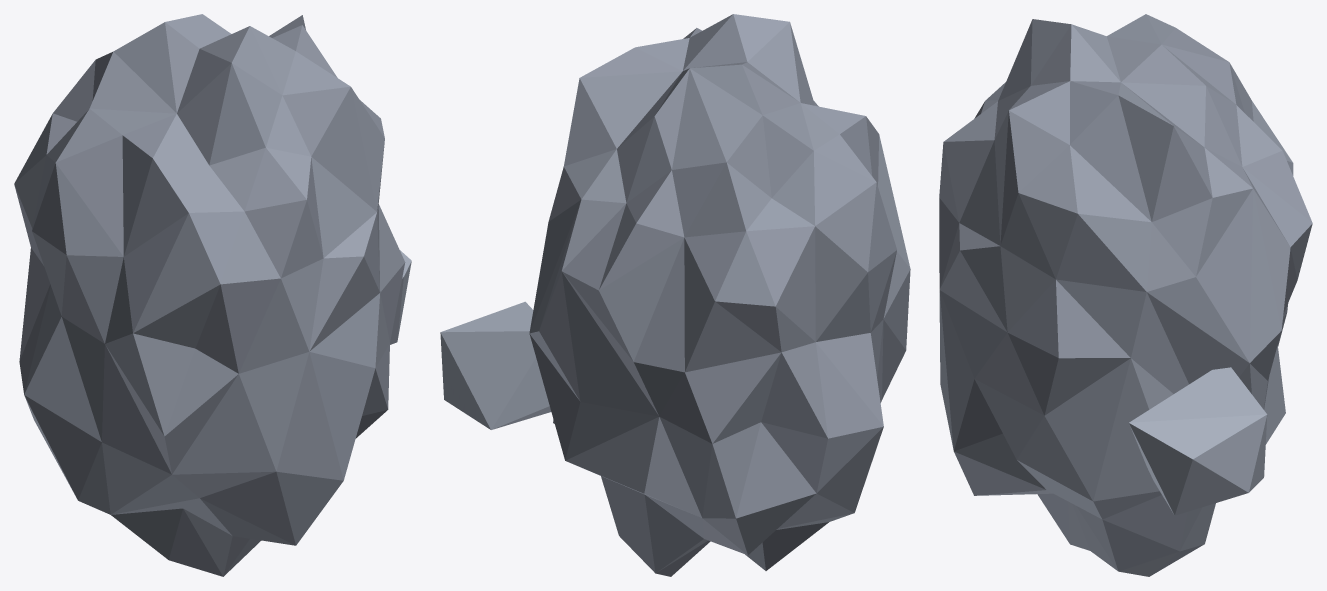
The model's file is 15-Recursos_roca_pedernal.glb.
The picture shows the model from 3 angles, left to right: view 1: azimuth 30°, elevation 25°; view 2: azimuth 150°, elevation 25°; view 3: azimuth 270°, elevation 25°; orthographic projection. The views are drawn at different scales.
Parts seen in each view (by area): view 1: SM_Roca_M_Pedernal, SM_Roca_M_Pedernal_C; view 2: SM_Roca_M_Pedernal, SM_Roca_M_Pedernal_C; view 3: SM_Roca_M_Pedernal, SM_Roca_M_Pedernal_C.
Part boxes in pixels (x1,y1,x2,y2): SM_Roca_M_Pedernal: [14, 14, 405, 576]; SM_Roca_M_Pedernal_C: [390, 250, 411, 344]; SM_Roca_M_Pedernal: [529, 14, 910, 576]; SM_Roca_M_Pedernal_C: [440, 301, 551, 429]; SM_Roca_M_Pedernal: [939, 14, 1312, 576]; SM_Roca_M_Pedernal_C: [1129, 367, 1267, 515].
Bounding box in the file's own units: 2.84 × 3.62 × 2.26.
